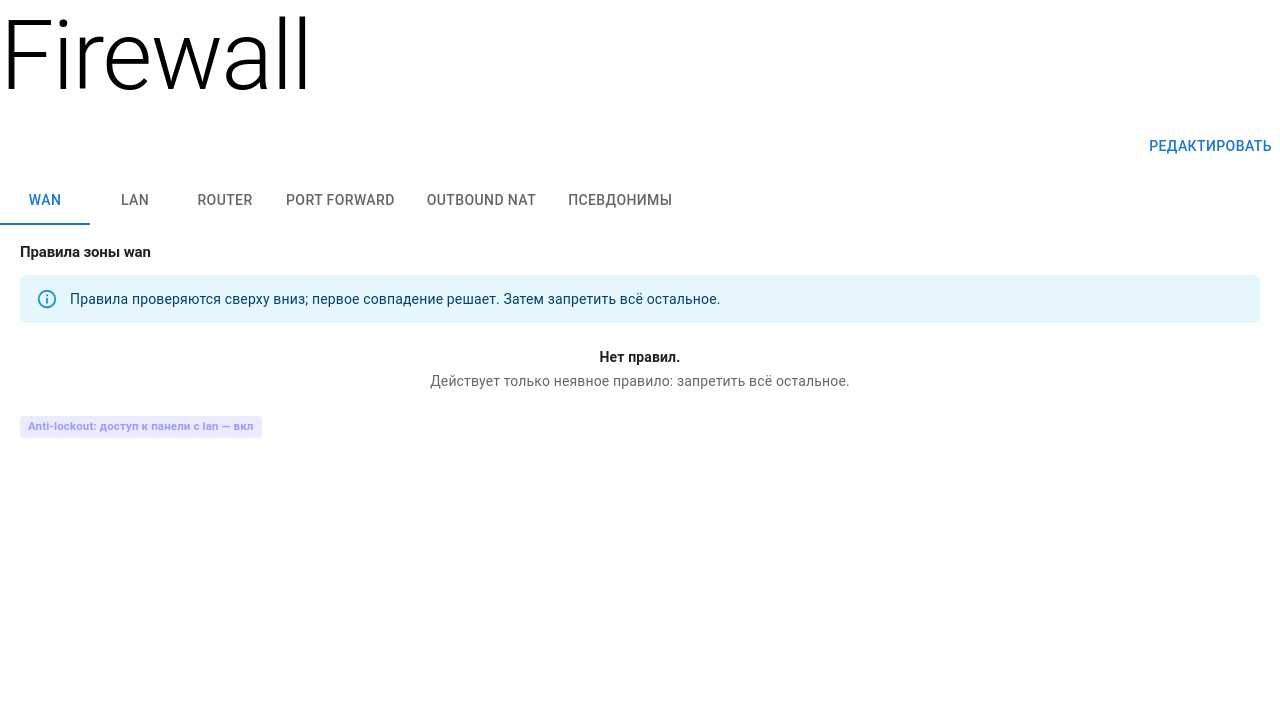
Test: shows one add action and an empty Firewall rules state
Click the button "Редактировать" at [1211, 146], box [1141,128,1279,164]
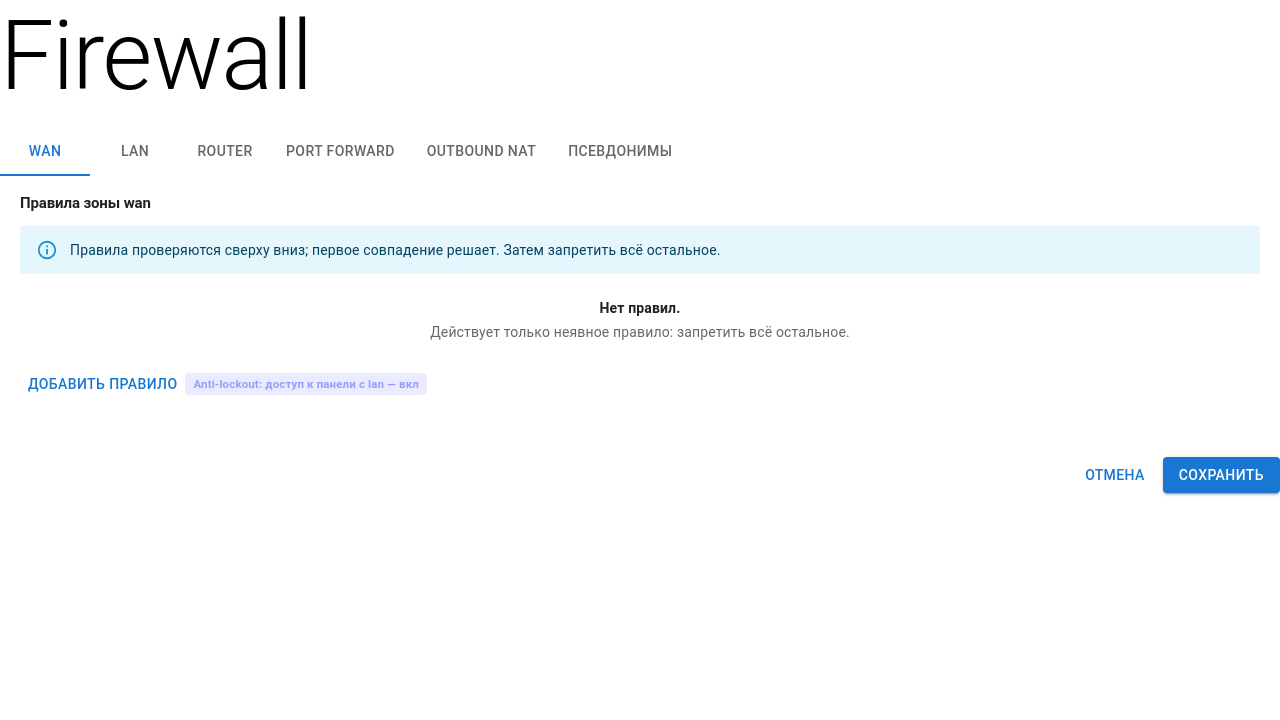
expect the text "Нет правил." is shown: met, box [600,300,680,316]
expect the number of buttons "Добавить правило" is 1: met
Click the button "Добавить правило" at [103, 384], box [20,366,186,403]
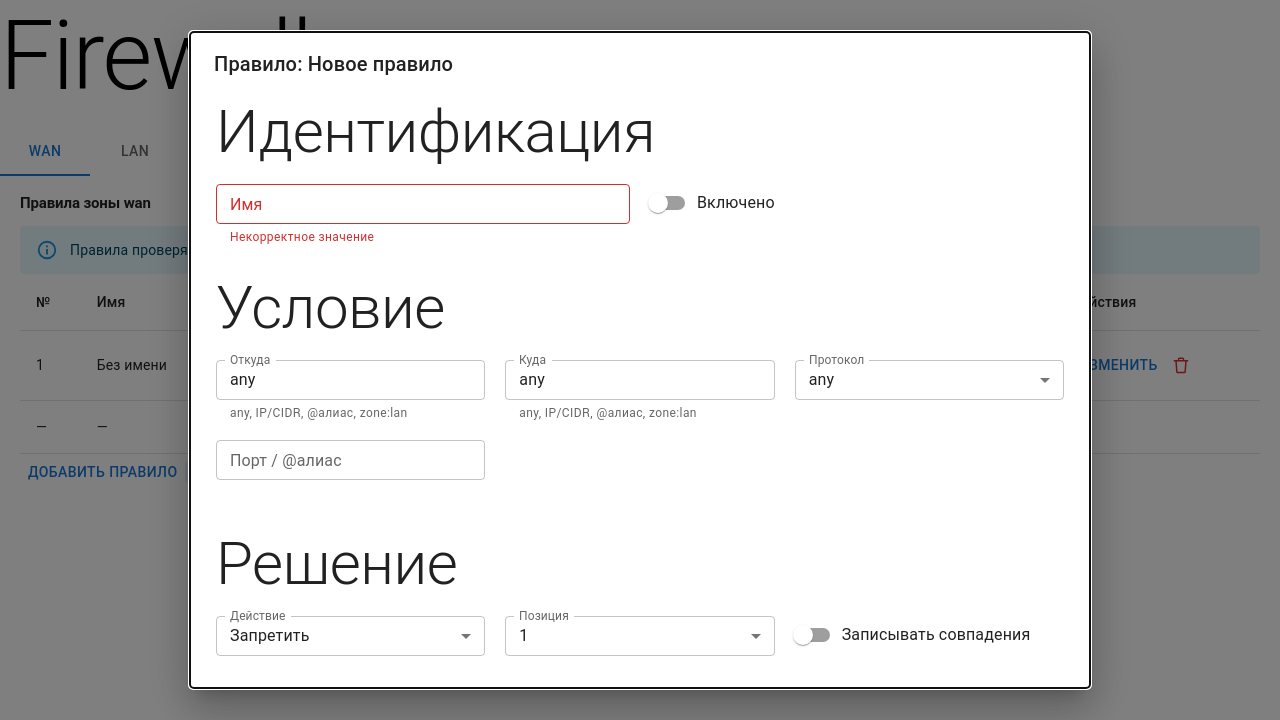
expect the heading "Идентификация" is shown: met, box [216,96,655,168]
expect the heading "Условие" is shown: met, box [216,272,445,344]
expect the heading "Решение" is shown: met, box [216,528,457,600]
